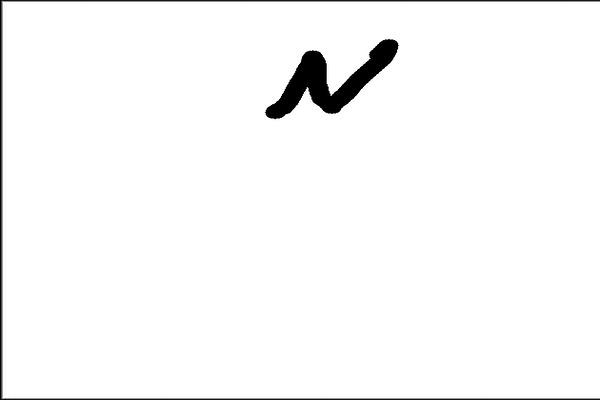N: (262, 34, 400, 122)
